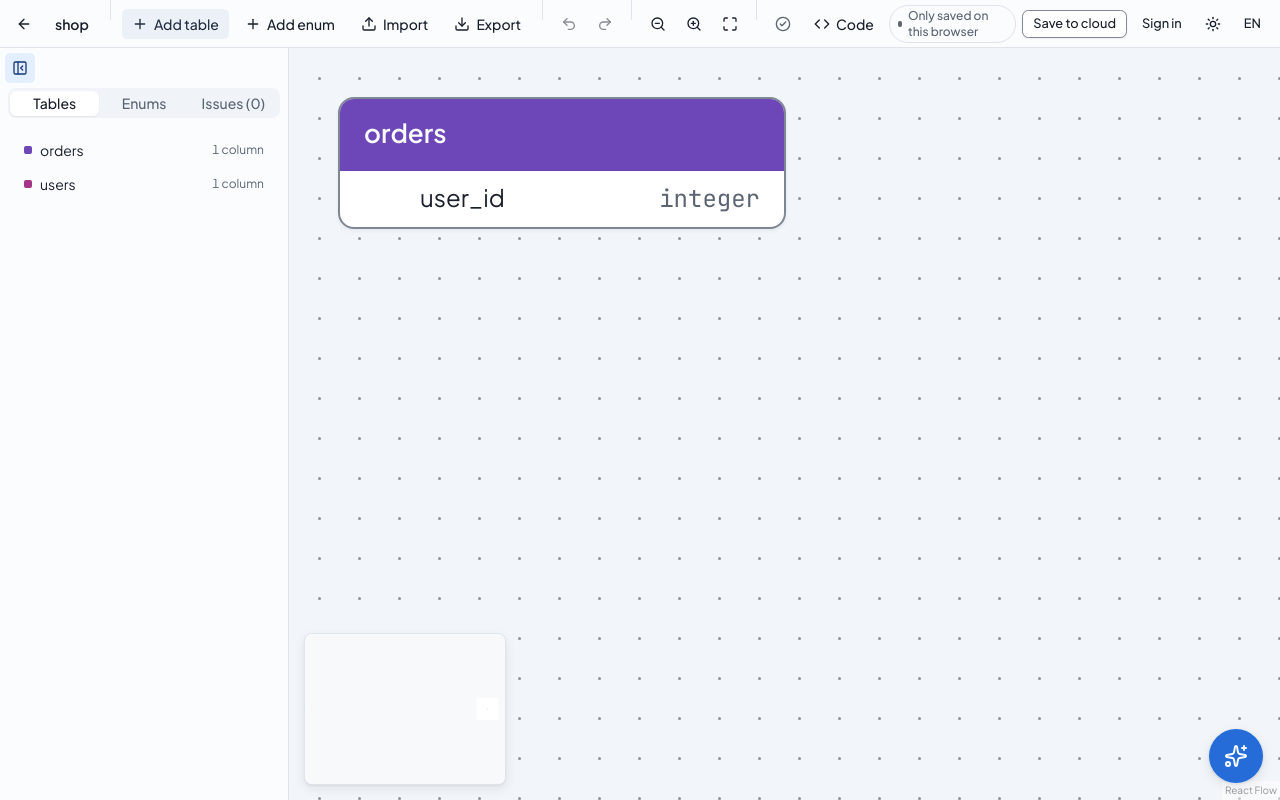
Test: EditorWorkspace › deletes the selection with the Delete key when focus is in the canvas
Click the button "users 1 column" at (144, 184), box [16,168,272,200]
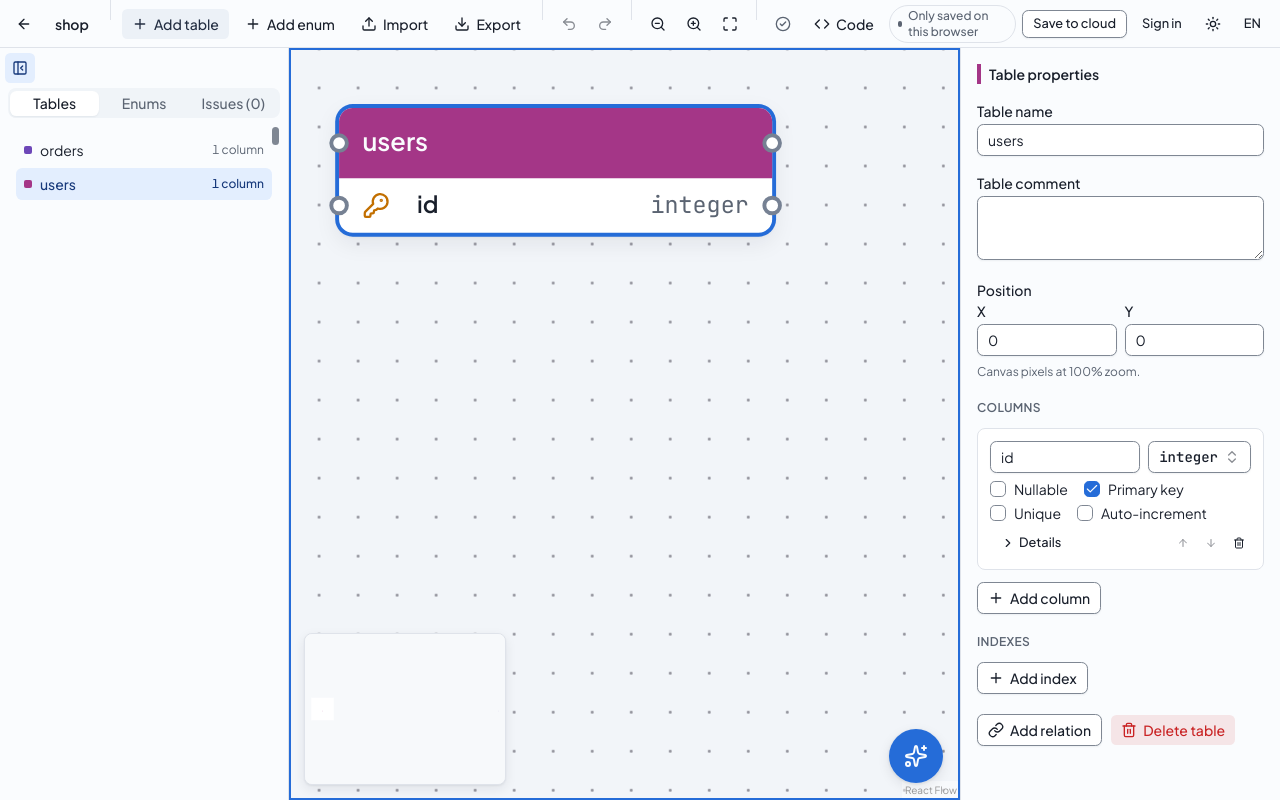
Press Delete
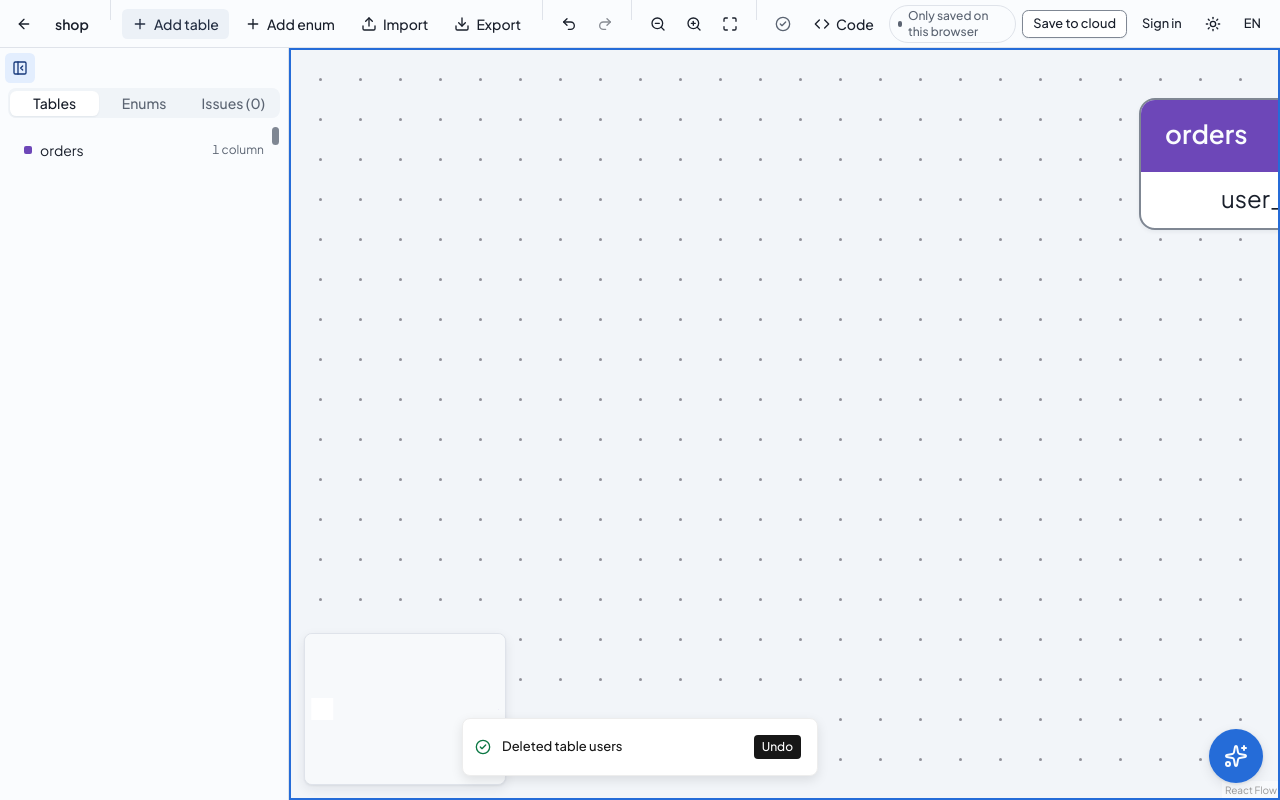
Expected: the text "Deleted table users" is shown, [502,737,622,757]
